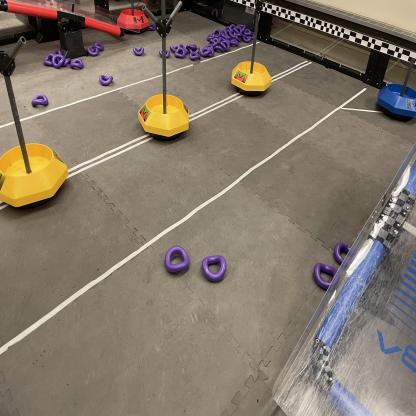ring: (312, 260, 342, 290), (163, 244, 190, 274), (200, 253, 227, 283), (331, 239, 359, 266), (30, 92, 49, 107), (42, 52, 57, 67), (98, 73, 113, 87), (52, 53, 65, 69), (69, 58, 84, 69), (90, 41, 104, 52), (86, 46, 98, 58), (174, 47, 186, 59), (52, 48, 62, 62), (132, 46, 144, 56), (178, 43, 188, 55), (200, 47, 212, 57), (61, 56, 72, 66), (220, 40, 230, 51), (158, 49, 170, 58), (189, 51, 201, 60), (185, 42, 197, 50), (147, 22, 156, 32), (205, 47, 214, 57), (242, 34, 252, 43), (233, 25, 242, 34), (170, 44, 180, 52), (229, 38, 239, 46), (189, 47, 200, 54), (203, 44, 214, 51), (212, 46, 224, 52), (212, 29, 221, 37), (237, 23, 245, 31), (224, 30, 232, 38), (229, 23, 236, 32), (210, 41, 221, 46), (208, 38, 219, 43), (243, 28, 252, 34), (206, 34, 216, 39), (248, 32, 255, 38), (218, 37, 227, 41)
